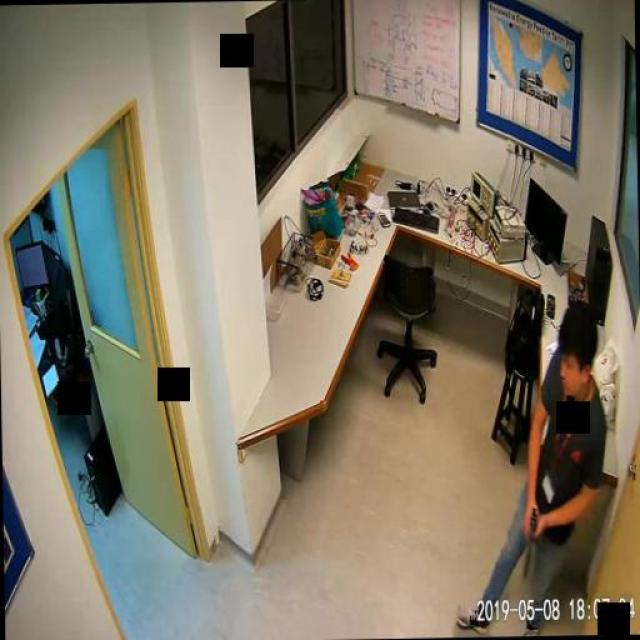gun: (520, 501, 540, 575)
